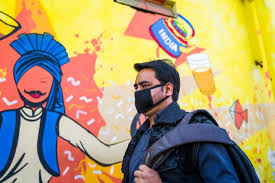mask: (132, 65, 174, 116)
